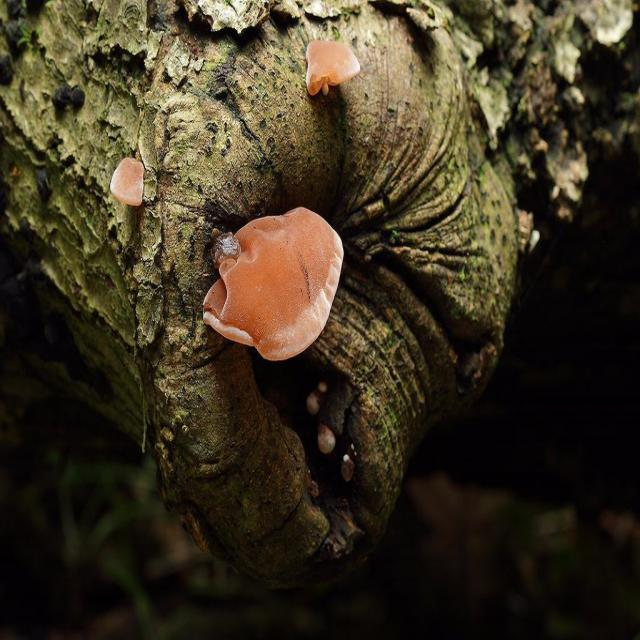Auricularia auricula: (203, 206, 344, 361), (304, 29, 361, 95), (109, 150, 145, 207)
